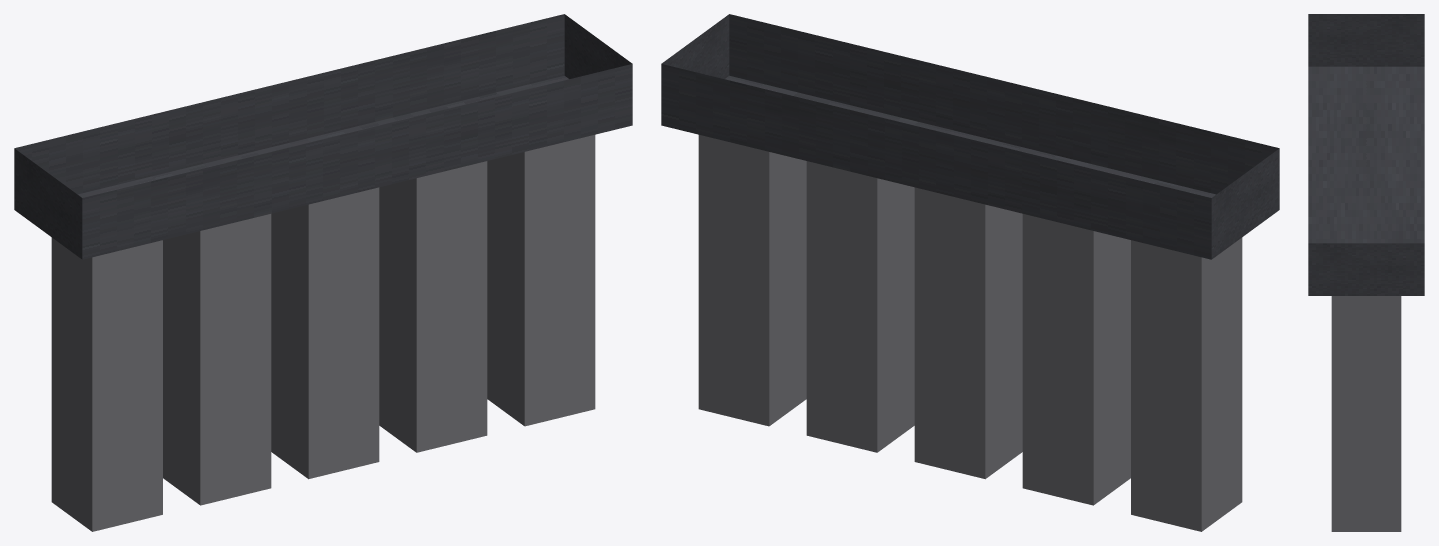
Rendered from tubes.obj.
3 views of the same model, side by side, from view 1: azimuth 30°, elevation 25°; view 2: azimuth 150°, elevation 25°; view 3: azimuth 270°, elevation 25° (orthographic). The views are drawn at different scales.
Bounding box in the file's own units: 28 × 17 × 6.
